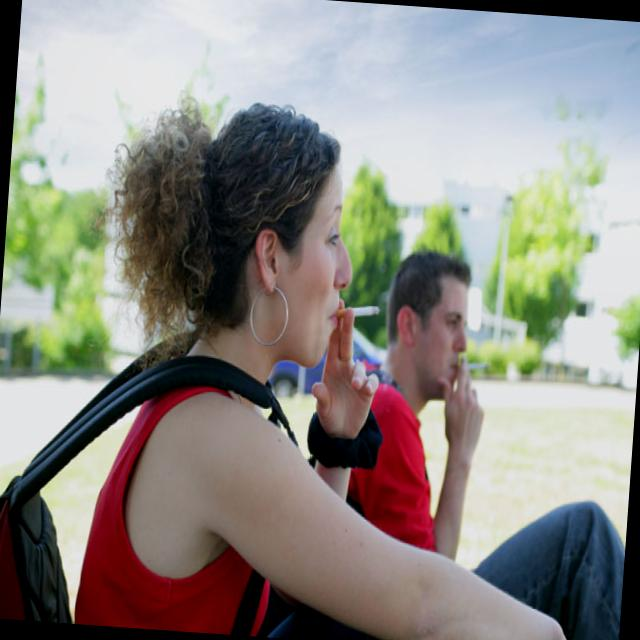smoke: (348, 304, 376, 320)
